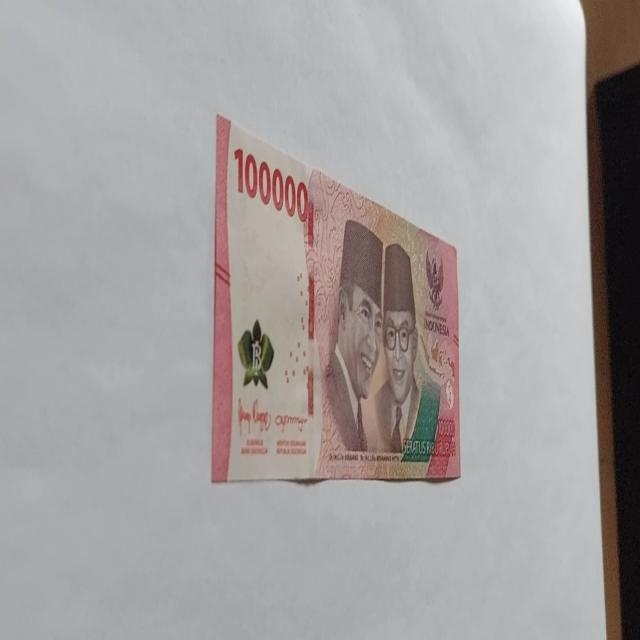seratus ribu rupiah: (210, 112, 462, 486)
